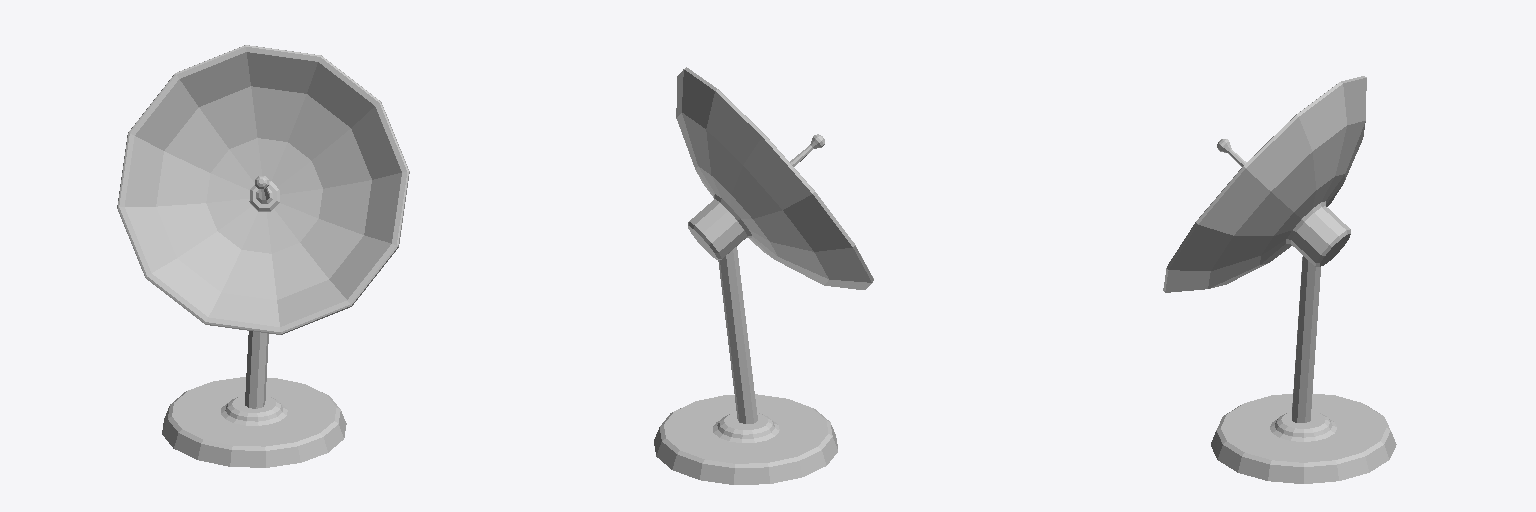
Rendered from Satellite_dish.obj.
3 views of the same model, side by side, from view 1: azimuth 30°, elevation 25°; view 2: azimuth 150°, elevation 25°; view 3: azimuth 270°, elevation 25° (orthographic).
Visible parts, largest first — view 1: radar; view 2: radar; view 3: radar.
Part boxes in pixels (x1,y1,x2,y2): radar: (117,45,409,467); radar: (654,67,873,484); radar: (1163,76,1396,483).
Bounding box in the file's own units: 0.4503 × 0.7017 × 0.4036.